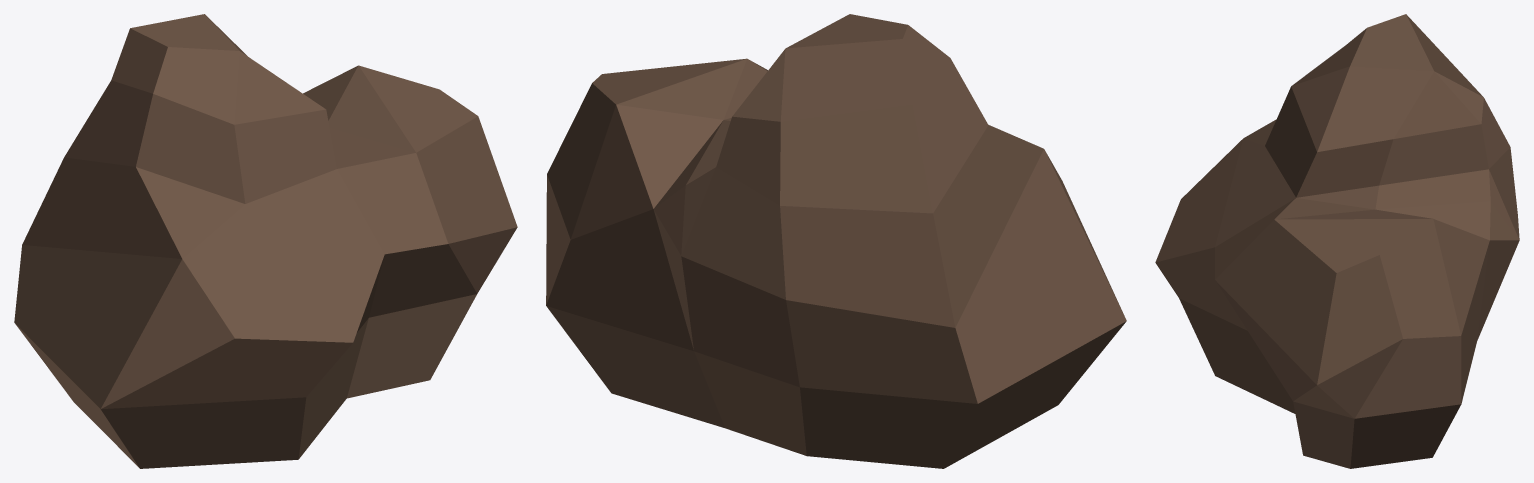
File: rock_2.fbx
The picture shows the model from 3 angles, left to right: view 1: azimuth 30°, elevation 25°; view 2: azimuth 150°, elevation 25°; view 3: azimuth 270°, elevation 25°; orthographic projection. The views are drawn at different scales.
Visible parts, largest first — view 1: rock_2; view 2: rock_2; view 3: rock_2.
Boxes of the visible parts, <box> form: rock_2: <box>14,14,517,468</box>; rock_2: <box>546,14,1126,468</box>; rock_2: <box>1155,14,1519,468</box>.
Size of the model in its own units: 296 by 231 by 228.
